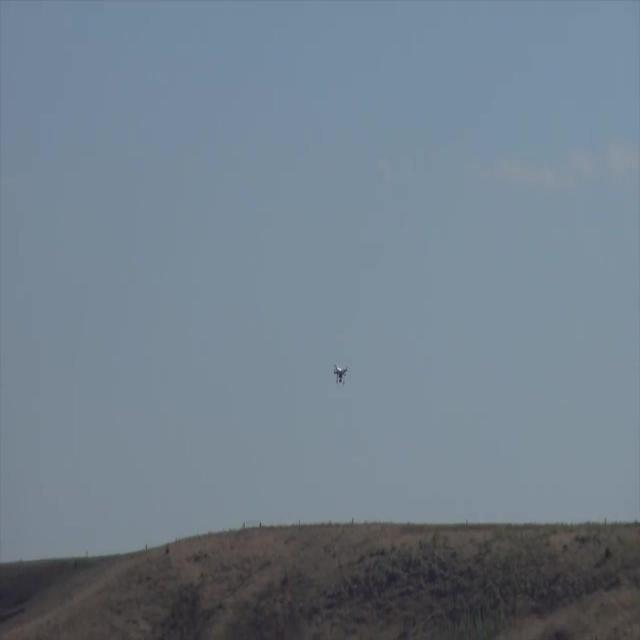UAV: (333, 364, 348, 386)
